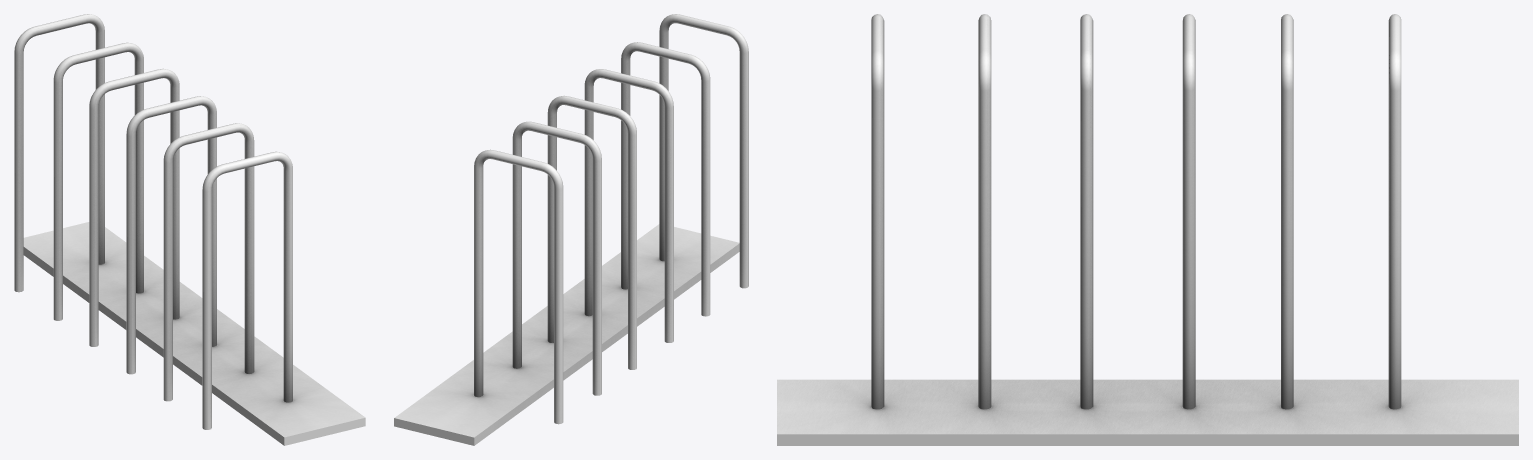
The model's file is street_el_4.glb.
The picture shows the model from 3 angles, left to right: view 1: azimuth 30°, elevation 25°; view 2: azimuth 150°, elevation 25°; view 3: azimuth 270°, elevation 25°; orthographic projection. The views are drawn at different scales.
Parts seen in each view (by area): view 1: street_el_4; view 2: street_el_4; view 3: street_el_4.
Boxes of the visible parts, box(x1,y1,x2,y2) form: street_el_4: box(14, 14, 365, 445); street_el_4: box(394, 14, 748, 445); street_el_4: box(777, 14, 1518, 445).
Bounding box in the file's own units: 0.31 × 0.6125 × 1.15.
Materials: 1 (1 with a texture image).
